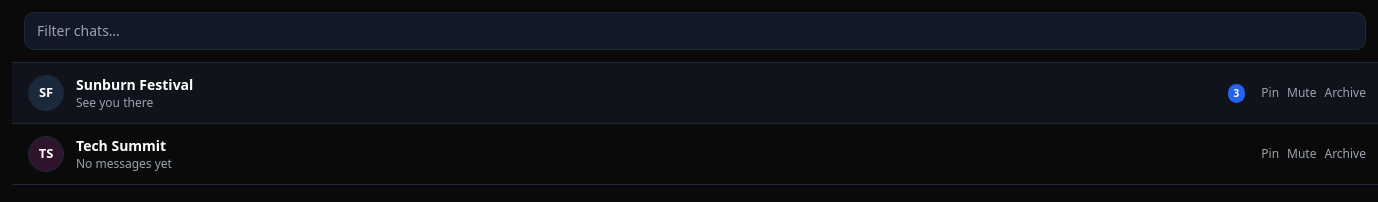
Test: RoomList › tells the user when a filter matches nothing
Type "zzzz" into the field labelled "Filter chats" at (695,31), box x1=24 y1=12 x2=1366 y2=50
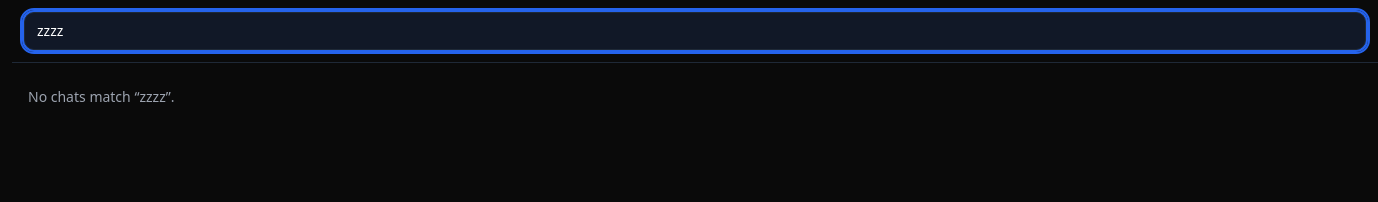
Result: the list item "No chats match “zzzz”." is shown at x1=28 y1=87 x2=174 y2=106
